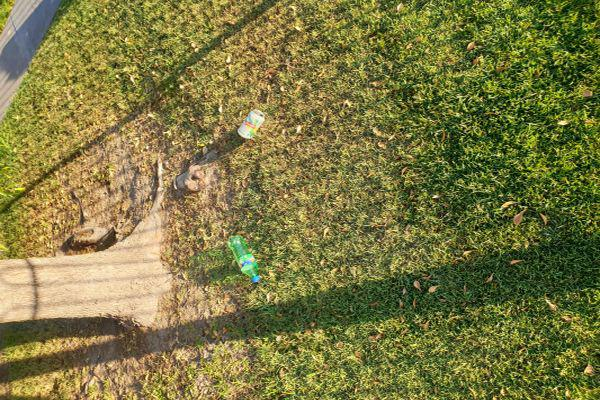Plastic Bottle: (225, 234, 261, 285), (237, 109, 266, 140)
